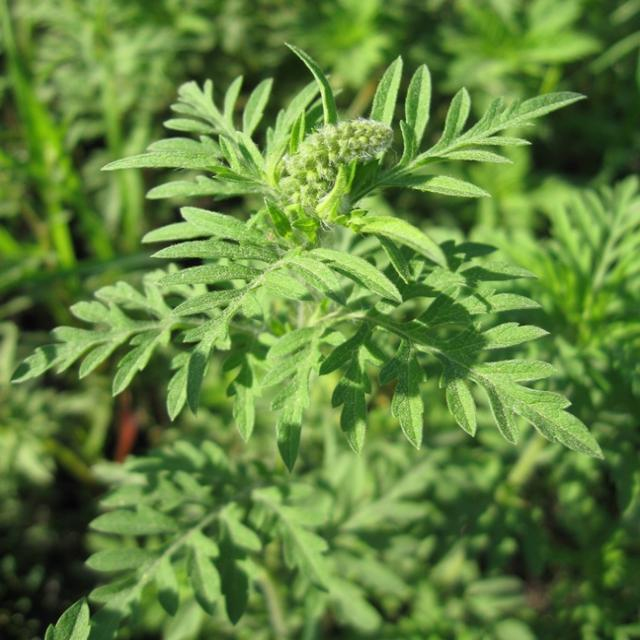ambrosia: (152, 74, 485, 365)
